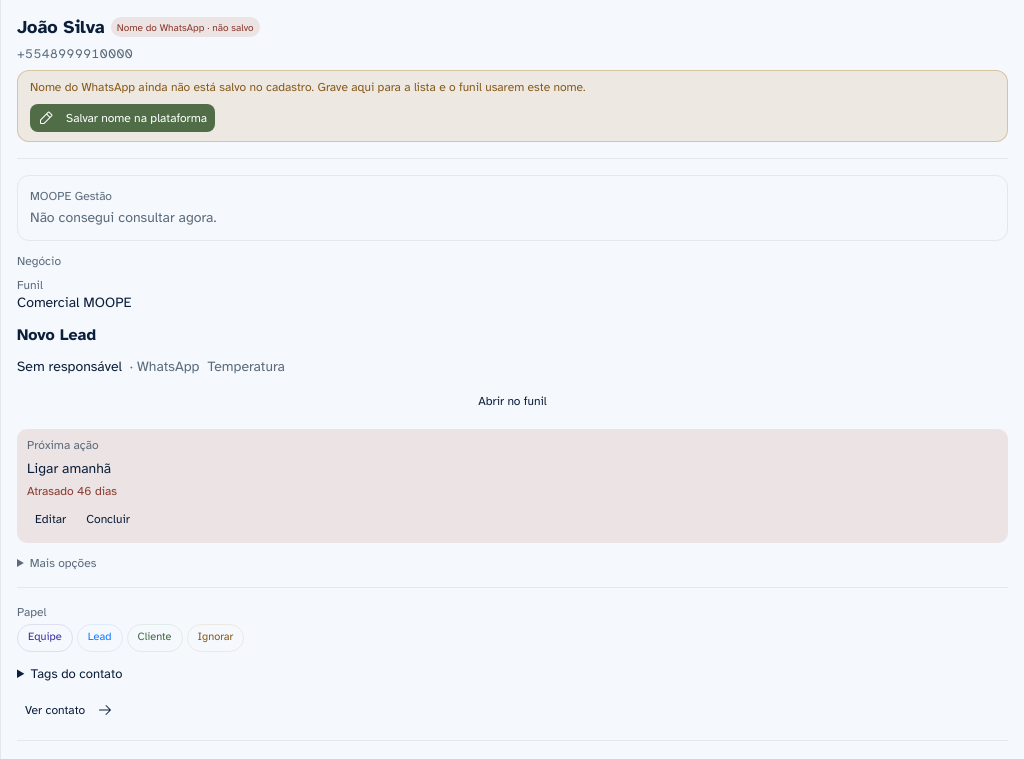
it: cockpit comercial na Inbox › próximo passo já gravado continua visível e editável
Expected: the text "Ligar amanhã" is shown, top-left (27, 460), bottom-right (111, 476)
Click the button with test id "inbox-editar-proximo-passo" at (51, 518), box top-left (27, 502), bottom-right (74, 534)
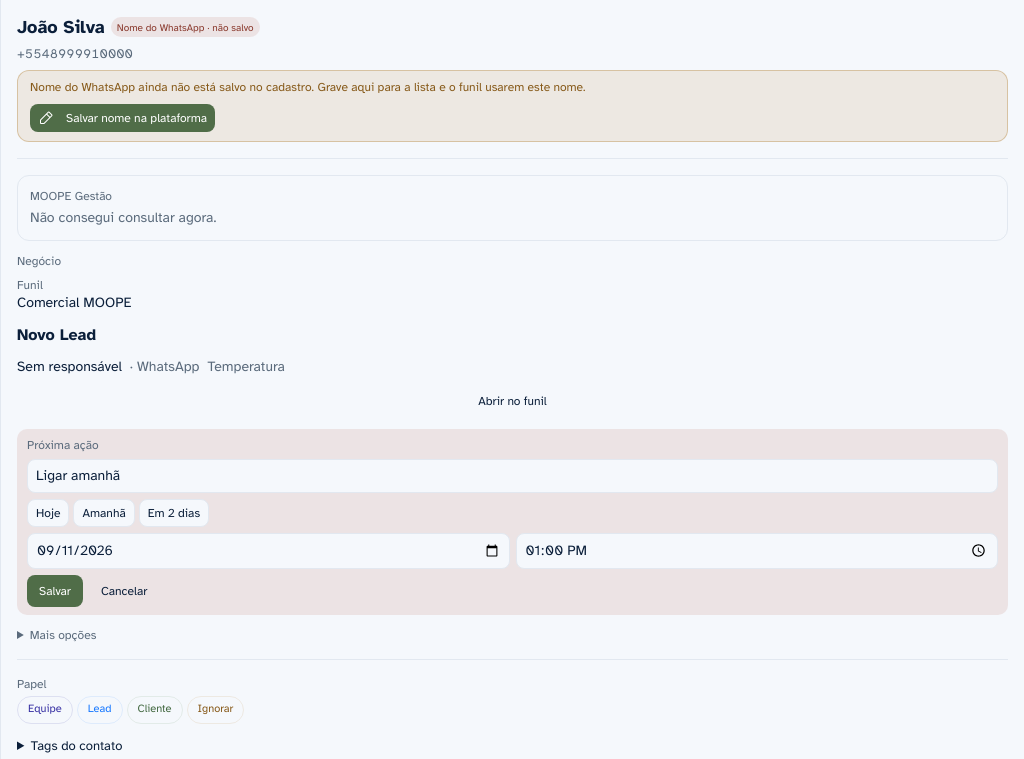
Now the date field with test id "inbox-proximo-passo-data" is not empty, box top-left (27, 532), bottom-right (510, 568)
